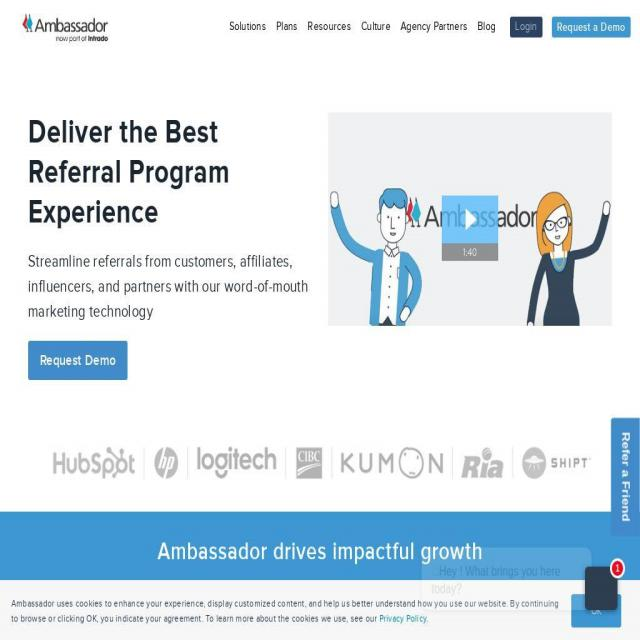button: (28, 341, 128, 380), (553, 14, 631, 39)
